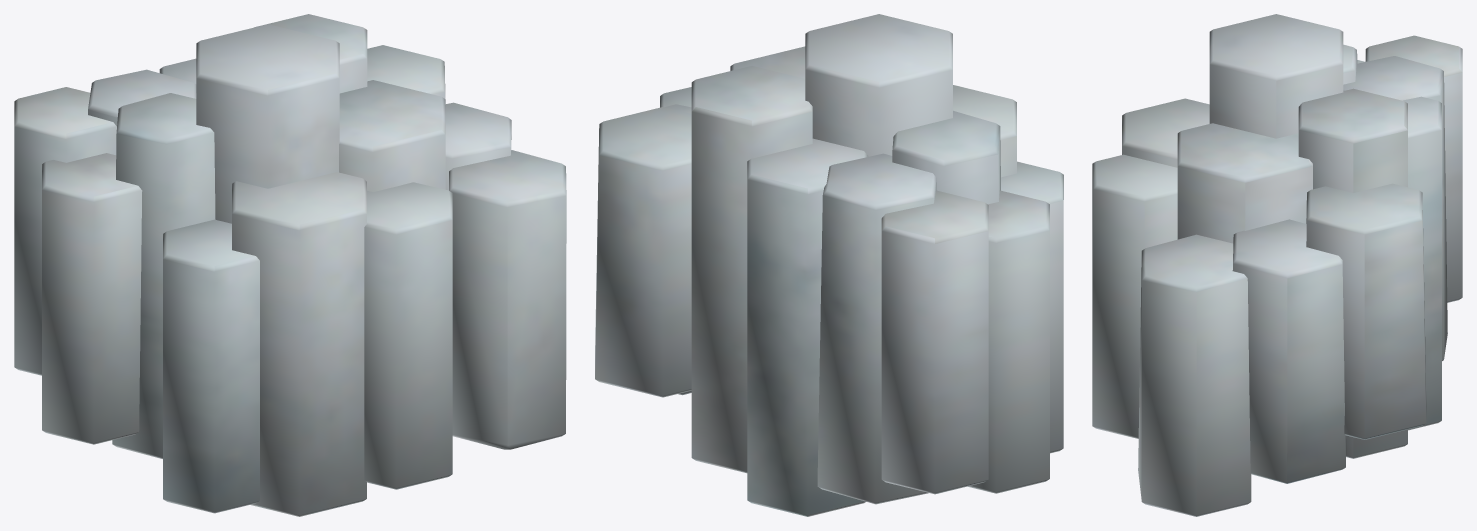
The model's file is P_RockHexic_Rocks08.obj.
The picture shows the model from 3 angles, left to right: view 1: azimuth 30°, elevation 25°; view 2: azimuth 150°, elevation 25°; view 3: azimuth 270°, elevation 25°; orthographic projection. The views are drawn at different scales.
Size of the model in its own units: 15.49 by 12.76 by 11.79.
